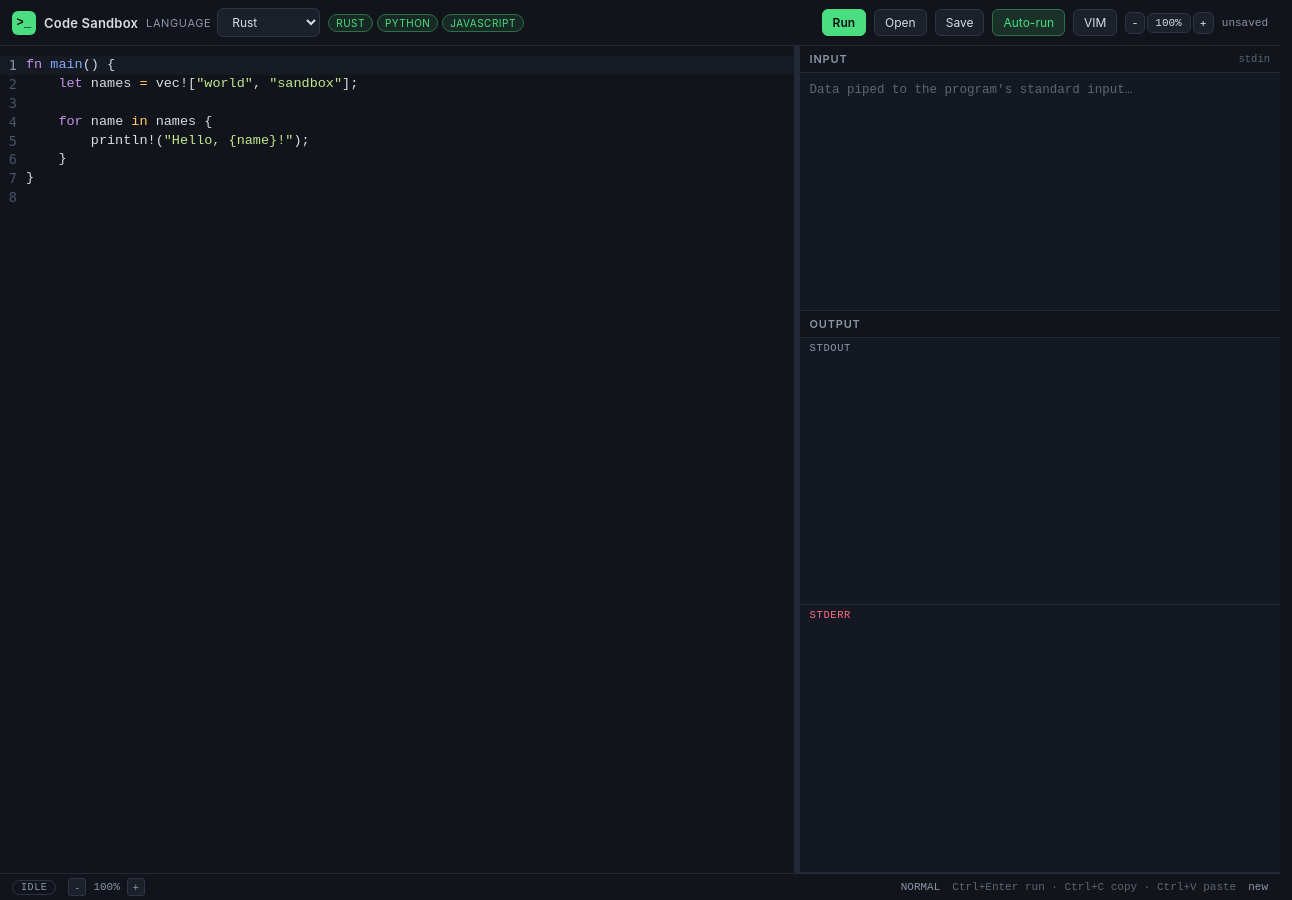
it: Code Sandbox › can switch the auto-run off
The width and height of the screenshot is (1292, 900).
Click the button "Auto-run".
click(1029, 22)  # box [992,9,1065,36]
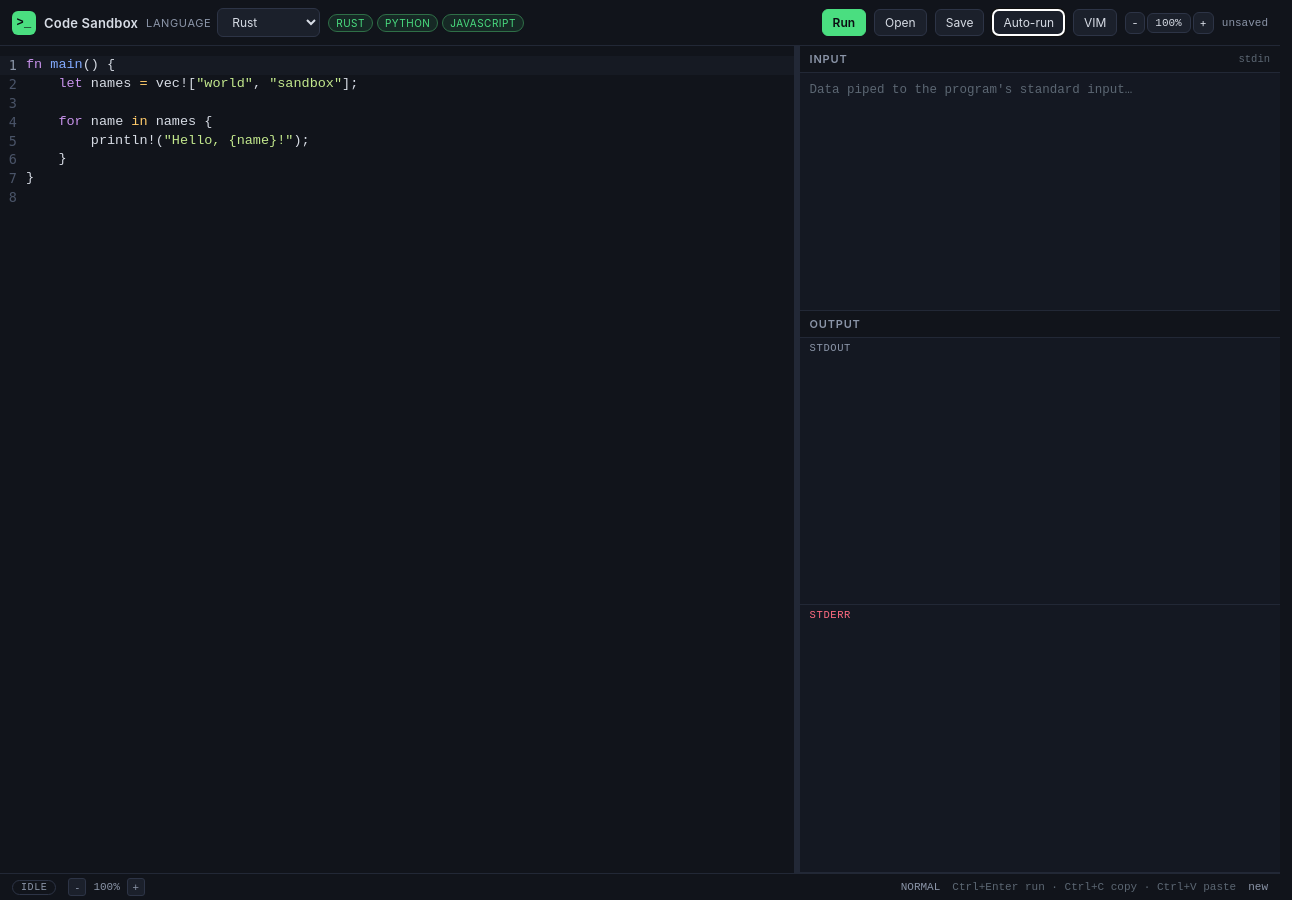
Check: the button "Auto-run" is not pressed, box [992,9,1065,36]
